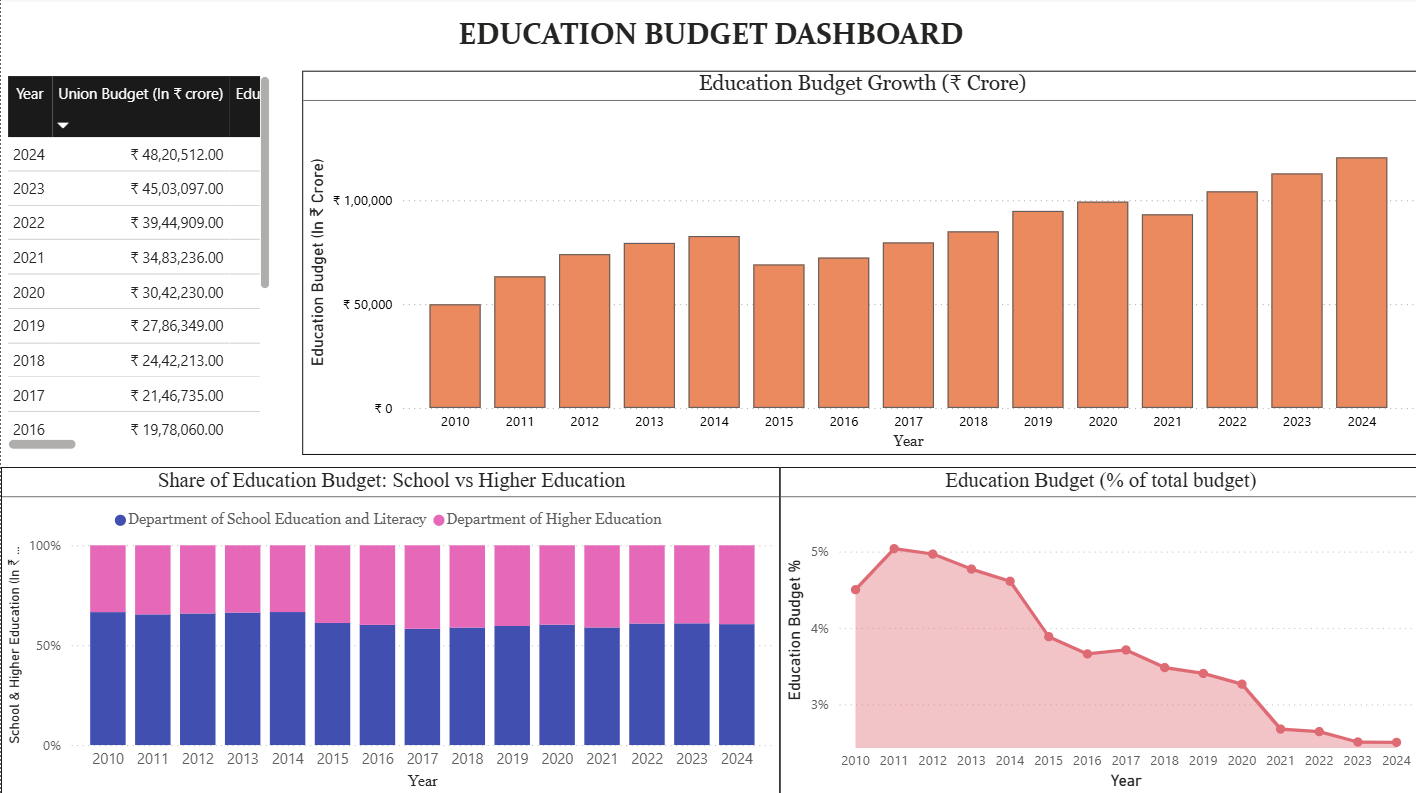

The dashboard page shown, as its layout file describes it:
{"tool":"powerbi","page":{"name":"Page 1","canvas":[1280,720],"ordinal":0},"visuals":[{"type":"tableEx","fields":{"Values":["Table2.Year","Sum(Table2.Union Budget)","Sum(Table2.Education Budget)","Sum(Table2. Department of School Education and Literacy)","Sum(Table2.Department of Higher Education)"]},"box":[0,66.2,247.5,346.2],"z":0},{"type":"lineStackedColumnComboChart","title":"Education Budget Growth (₹ Crore)","fields":{"Category":["Table2.Year"],"Y":["Sum(Table2.Education Budget)"]},"box":[271.2,66.2,1008.8,346.2],"z":1000},{"type":"hundredPercentStackedColumnChart","title":"Share of Education Budget: School vs Higher Education","fields":{"Category":["Table2.Year"],"Y":["Sum(Table2. Department of School Education and Literacy)","Sum(Table2.Department of Higher Education)"]},"box":[0,423.8,702.5,296.2],"z":2000},{"type":"textbox","box":[0,12.5,1280,43.8],"z":3000},{"type":"lineChart","title":"Education Budget (% of total budget)","fields":{"Y":["Table2.Sum of Education Budget divided by Sum of Union Budget"],"Category":["Table2.Year"]},"box":[702.5,423.8,577.5,296.2],"z":4000}]}

Visuals, with their boxes in screenshot pixels (x1, y1, x2, y2), scaled from the page's 1280x720 canvas onto the 1416x793 screenshot:
tableEx - Table2.Year x Sum(Table2.Union Budget): [left=0, top=73, right=274, bottom=454]
"Education Budget Growth (₹ Crore)" lineStackedColumnComboChart: [left=300, top=73, right=1415, bottom=454]
"Share of Education Budget: School vs Higher Education" hundredPercentStackedColumnChart: [left=0, top=467, right=777, bottom=792]
textbox: [left=0, top=14, right=1415, bottom=62]
"Education Budget (% of total budget)" lineChart: [left=777, top=467, right=1415, bottom=792]
